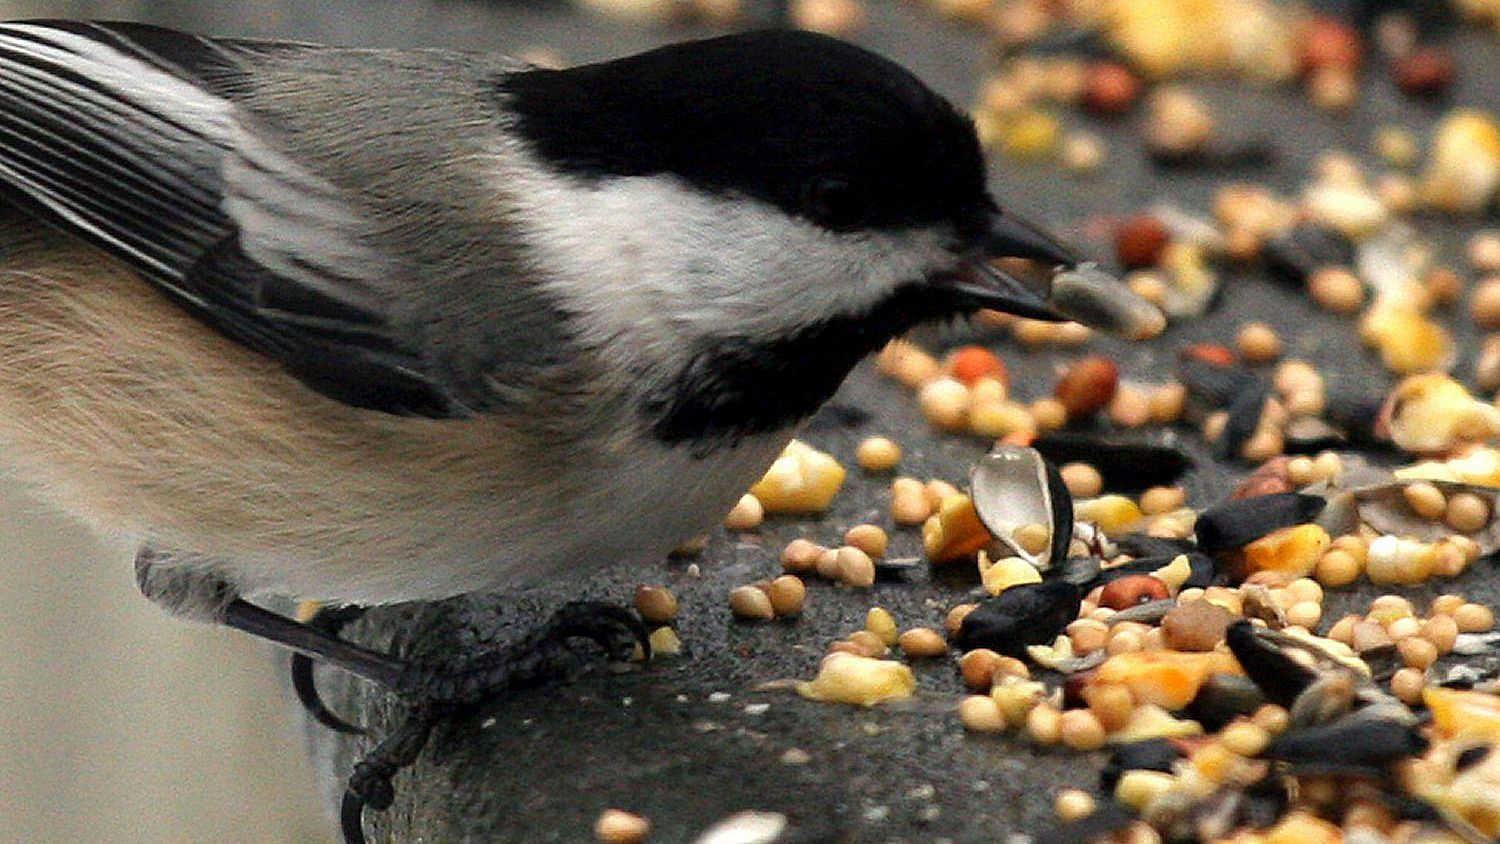seed: (728, 304, 1500, 844)
